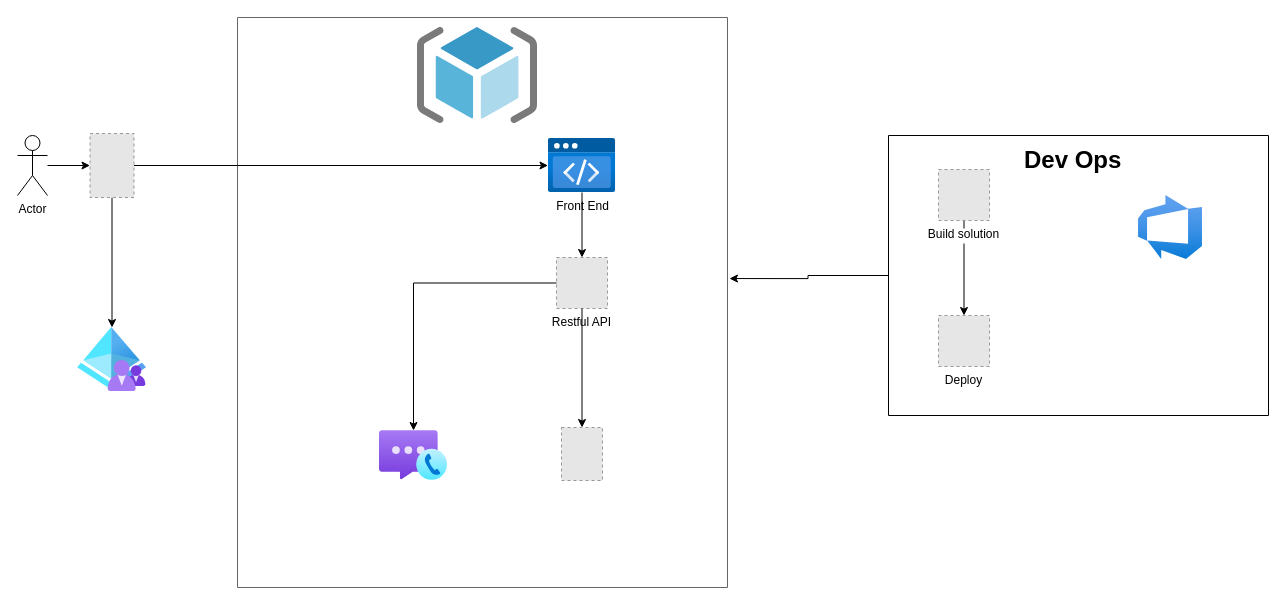
Image size: 1286x605. Some labels were removed from this diagram. Grey dashed boxes stand in for pictures. Here are the shapes that lost their labels. From the top down, the box of each, then its label:
(417, 27, 537, 123): Azure Resource Group
(1138, 195, 1202, 259): Azure DevOps
(77, 327, 146, 391): Users
